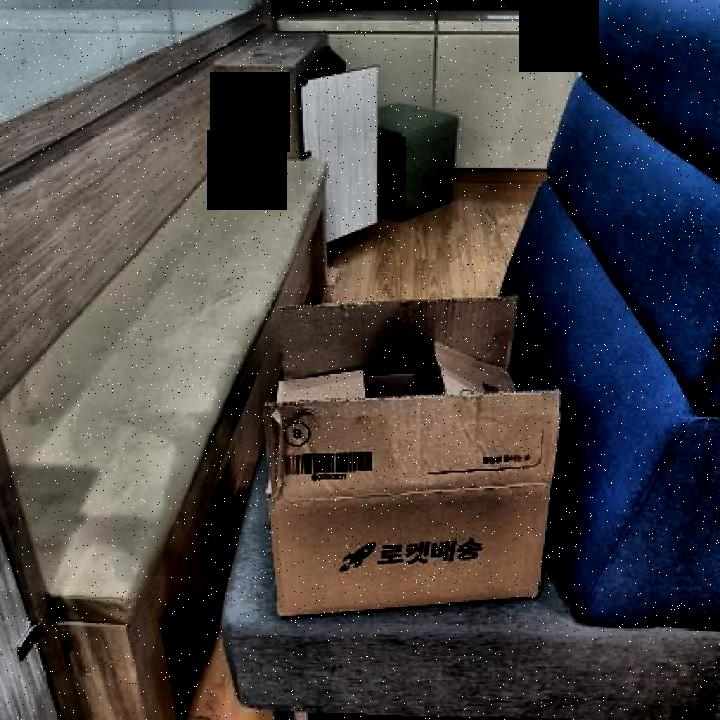box: (258, 293, 568, 624)
